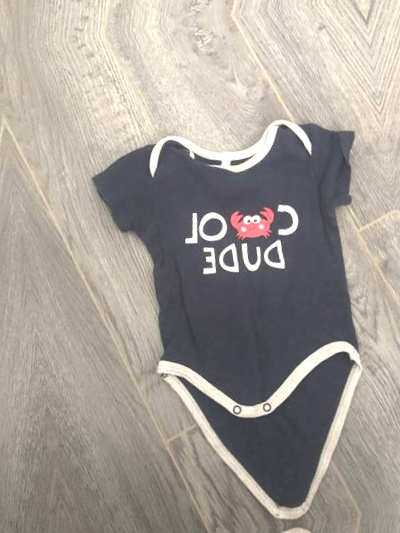Body: (89, 88, 400, 533), (152, 509, 400, 533), (395, 42, 400, 496)
